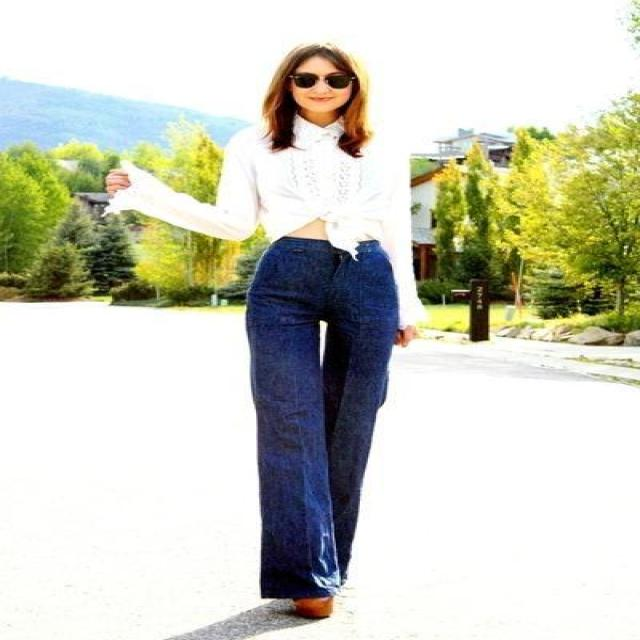pants: (224, 236, 402, 599)
shirt: (106, 118, 428, 328)
shoe: (288, 593, 331, 621)
